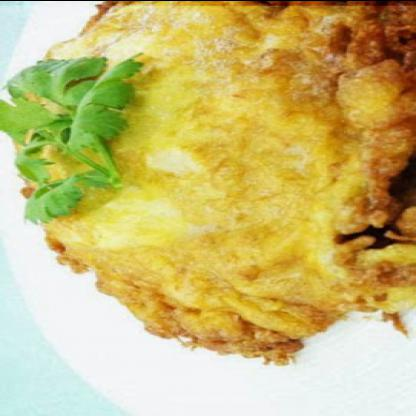Omelette: (18, 1, 415, 366)
